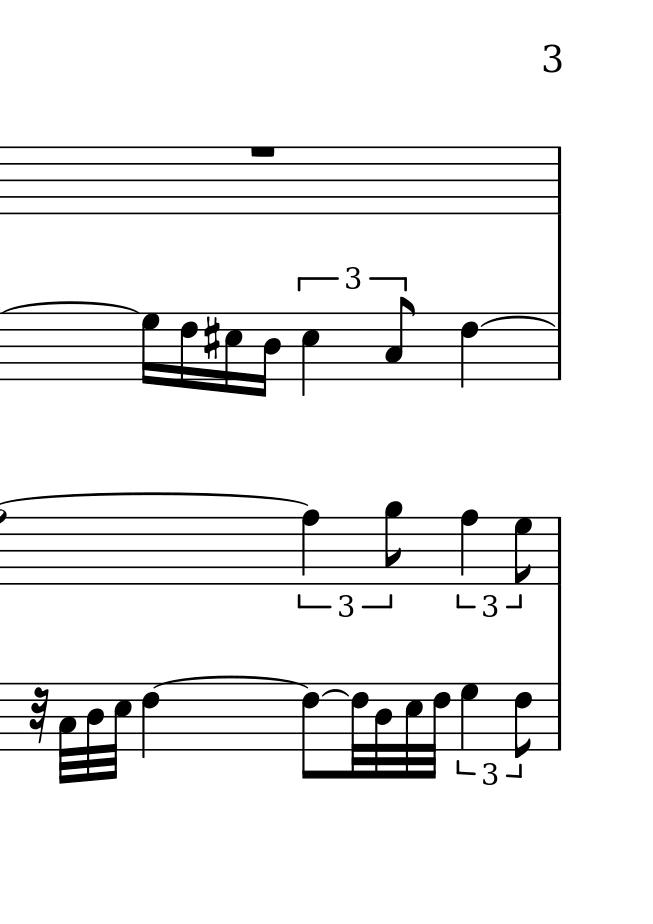16_4: (256, 311, 283, 400)
16_5: (224, 312, 245, 394)
16_6: (178, 312, 198, 389)
16_7: (140, 312, 160, 387)
3: (542, 40, 562, 76)
32_3: (57, 682, 77, 785)
32_4: (374, 680, 395, 779), (85, 681, 104, 782)
32_5: (107, 682, 134, 779), (404, 681, 424, 781)
32_6: (428, 682, 452, 781), (350, 681, 370, 779)
4_5: (300, 310, 320, 399)
4_6: (459, 310, 480, 389), (140, 682, 161, 760)
4_7: (459, 683, 478, 748)
4_8: (459, 508, 480, 586), (301, 508, 321, 585)
8_3: (383, 295, 416, 381)
8_6: (301, 682, 321, 781), (513, 683, 534, 759)
8_7: (513, 515, 534, 586)
8_9: (383, 500, 403, 586)
Rests1: (245, 141, 281, 162)
Rests32: (26, 685, 50, 744)
Sharp: (201, 314, 223, 363)
Single_barline: (549, 311, 566, 380), (550, 147, 567, 214), (552, 515, 567, 584), (551, 682, 566, 749)
Slur: (152, 675, 307, 690), (1, 300, 139, 315), (479, 313, 555, 328), (321, 690, 348, 699)
